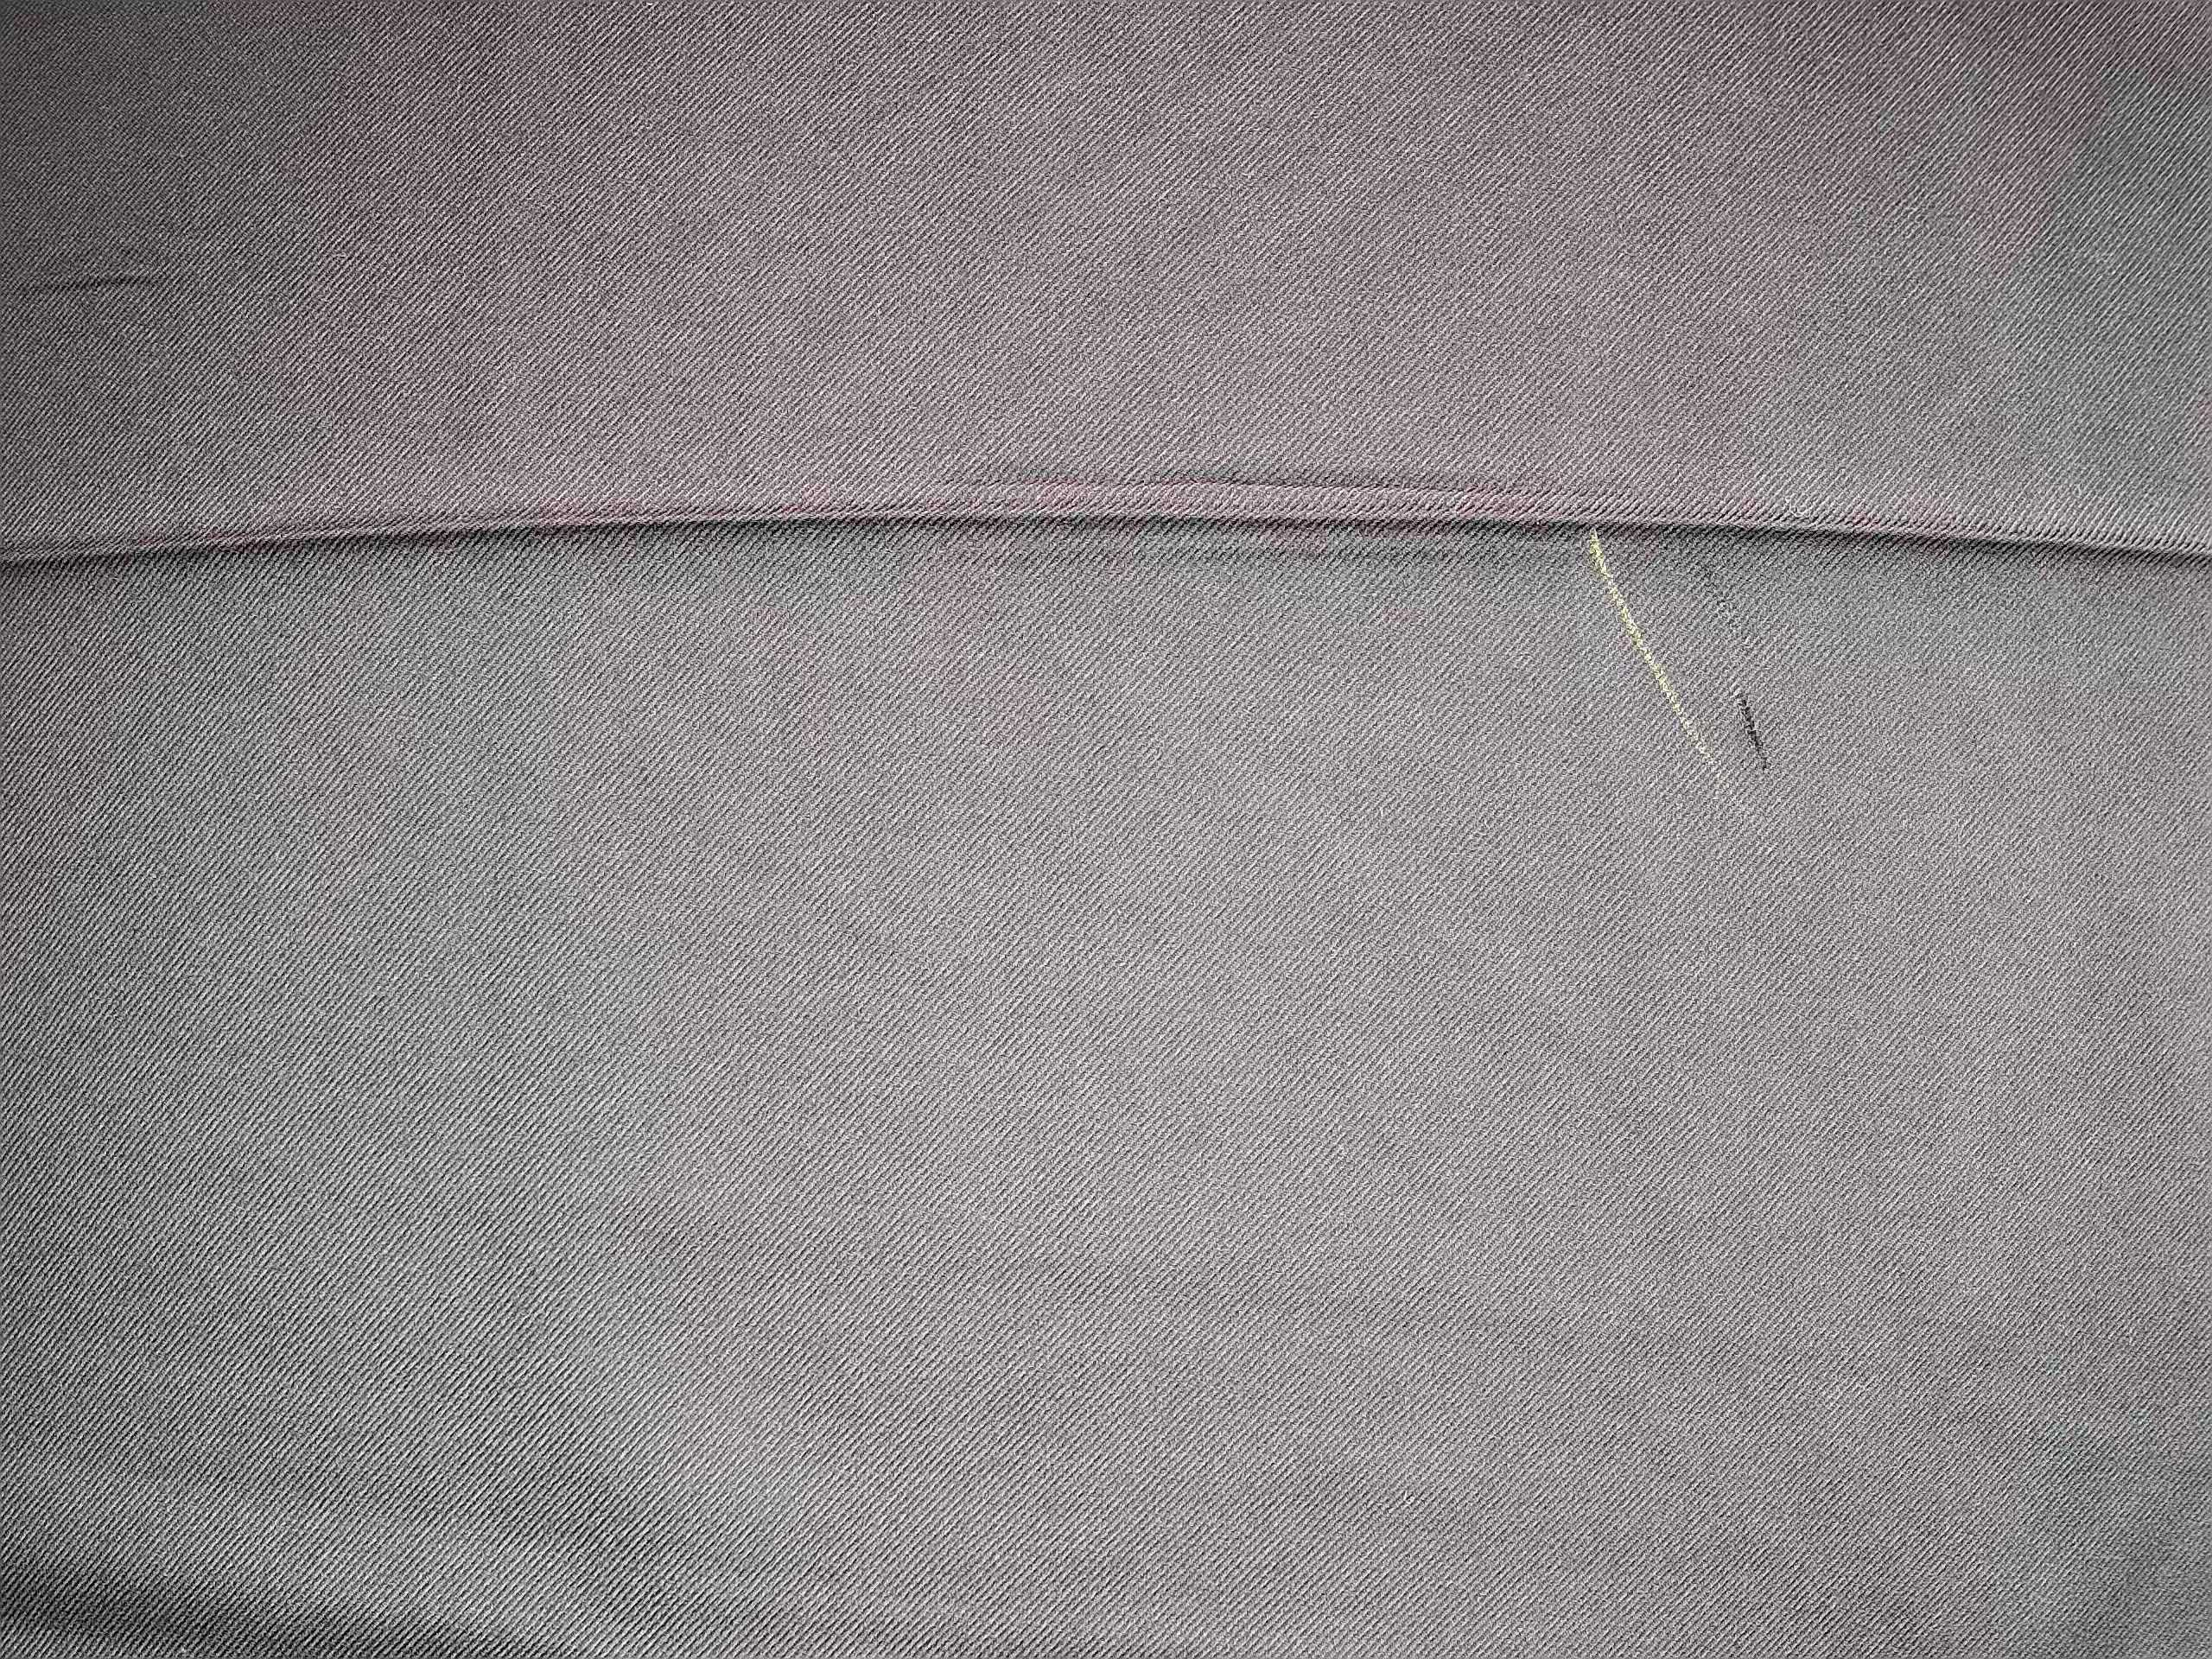rubbing-hole: (1660, 545, 1796, 810)
